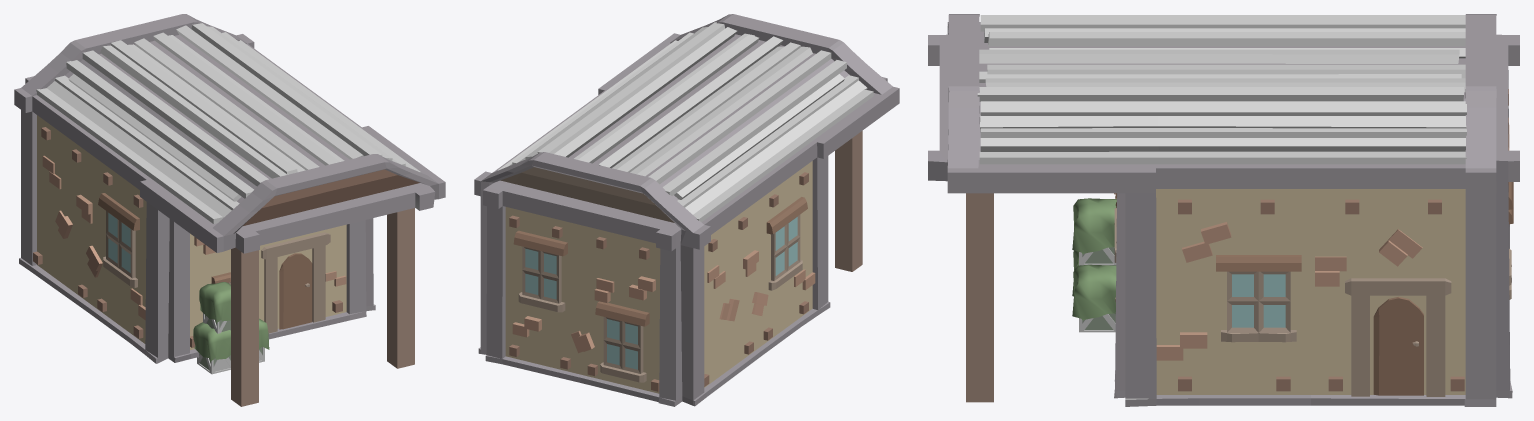
File: huis03.fbx
The picture shows the model from 3 angles, left to right: view 1: azimuth 30°, elevation 25°; view 2: azimuth 150°, elevation 25°; view 3: azimuth 270°, elevation 25°; orthographic projection. The views are drawn at different scales.
Visible parts, largest first — view 1: Huis03.002, Huis03.003, Huis03.004; view 2: Huis03.002, Huis03.003, Huis03.004; view 3: Huis03.002, Huis03.003, Huis03.004.
Part boxes in pixels (x1,y1,x2,y2): Huis03.002: (14,14,445,370); Huis03.003: (36,23,420,223); Huis03.004: (193,208,414,406); Huis03.002: (474,14,899,406); Huis03.003: (497,22,873,221); Huis03.004: (835,131,862,271); Huis03.002: (928,14,1519,406); Huis03.003: (977,15,1466,164); Huis03.004: (966,193,1116,402).
Size of the model in its own units: 7.55 by 6.85 by 12.51.
